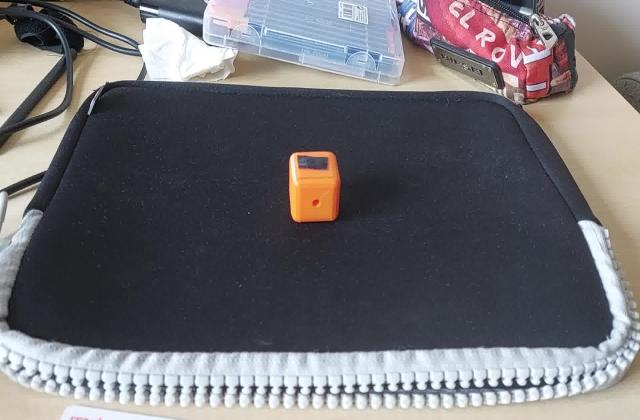cube: (288, 148, 344, 225)
